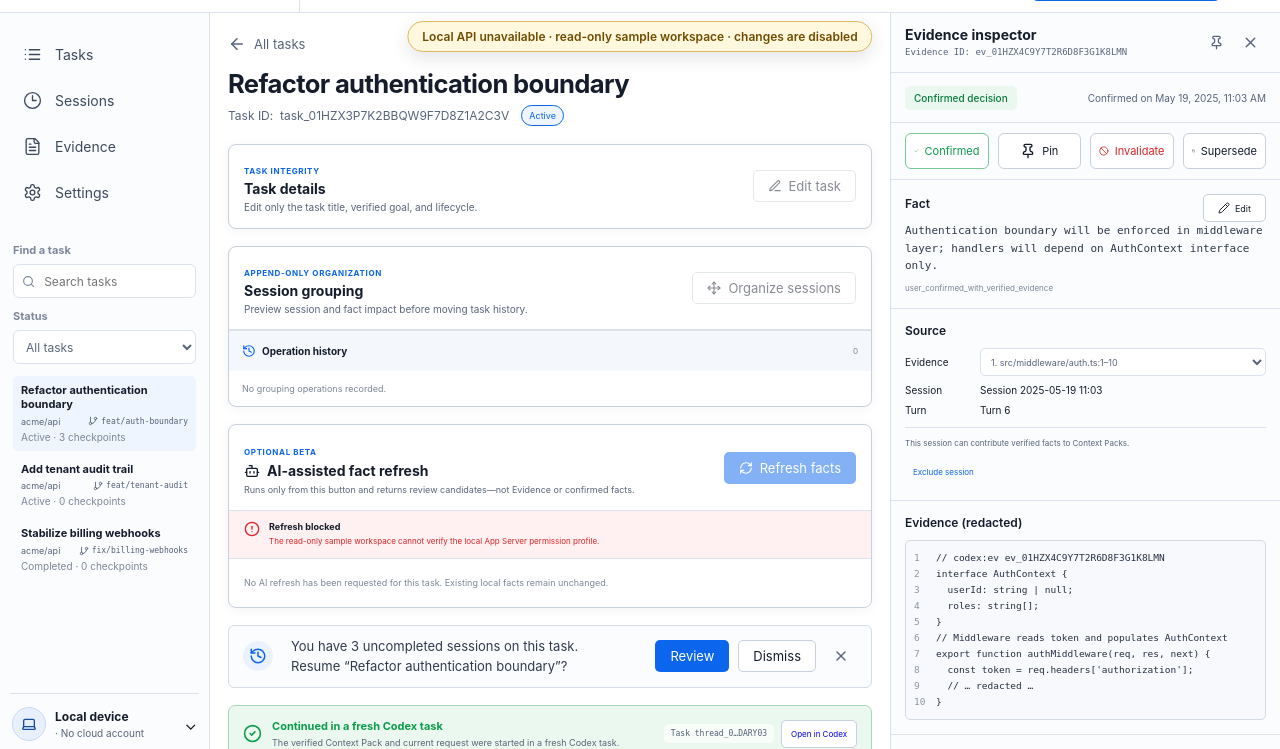
Test: PreviouslyOn review workspace › filters tasks and allows selecting a matching task
Expected: the heading "Refactor authentication boundary" is shown, [228, 69, 629, 99]
Type "tenant audit" into the search field with placeholder "Search tasks". click: (115, 281)
box: [42, 272, 187, 290]
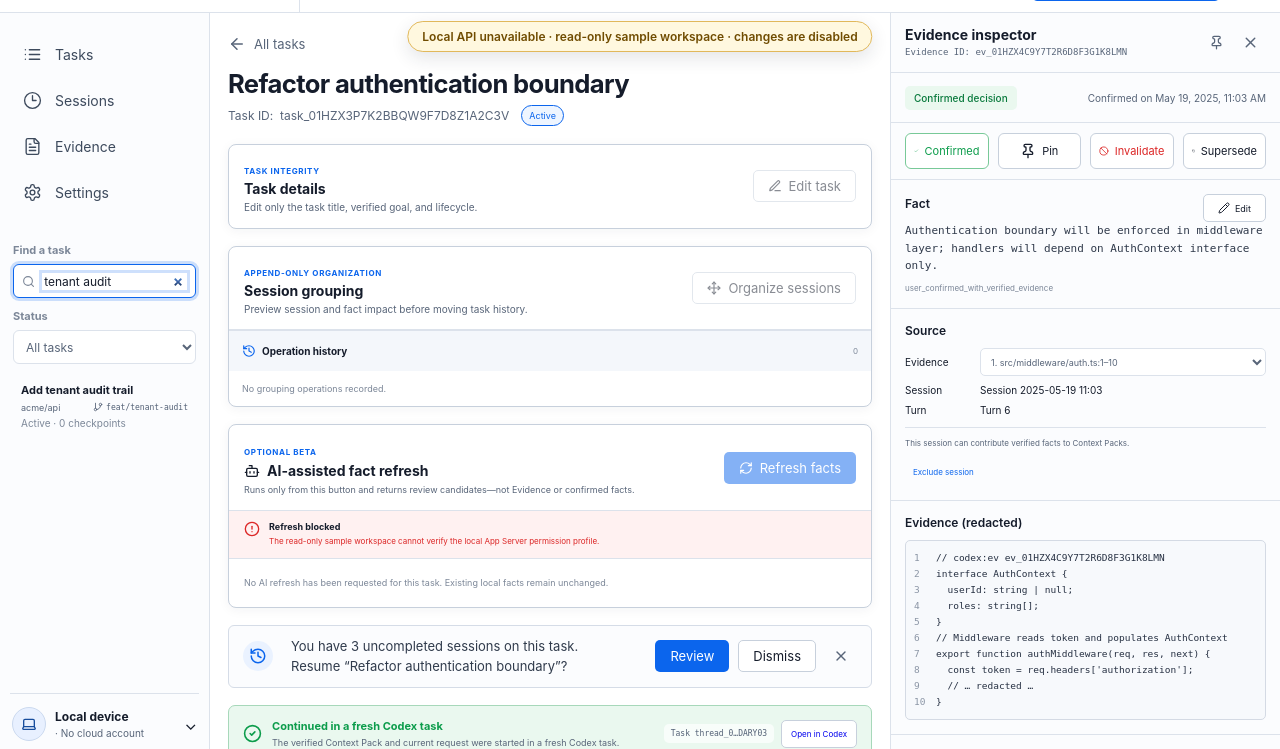
Click the button "Add tenant audit trail". click: (104, 406)
box: [13, 376, 196, 437]
(page scrolled)
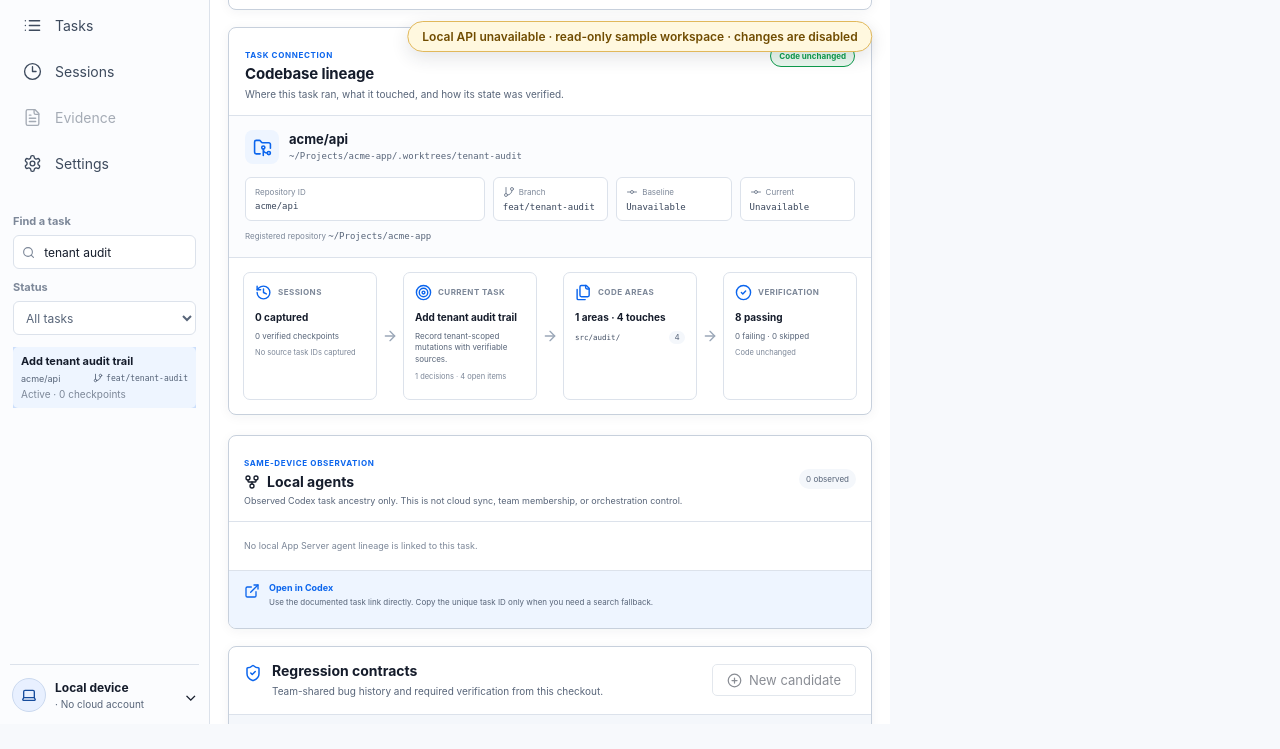
Result: the text "feat/tenant-audit" is shown at [503, 202, 598, 212]
Result: the text "~/Projects/acme-app/.worktrees/tenant-audit" is shown at [289, 150, 522, 163]
Result: the text "0 captured" is shown at [255, 311, 308, 323]
